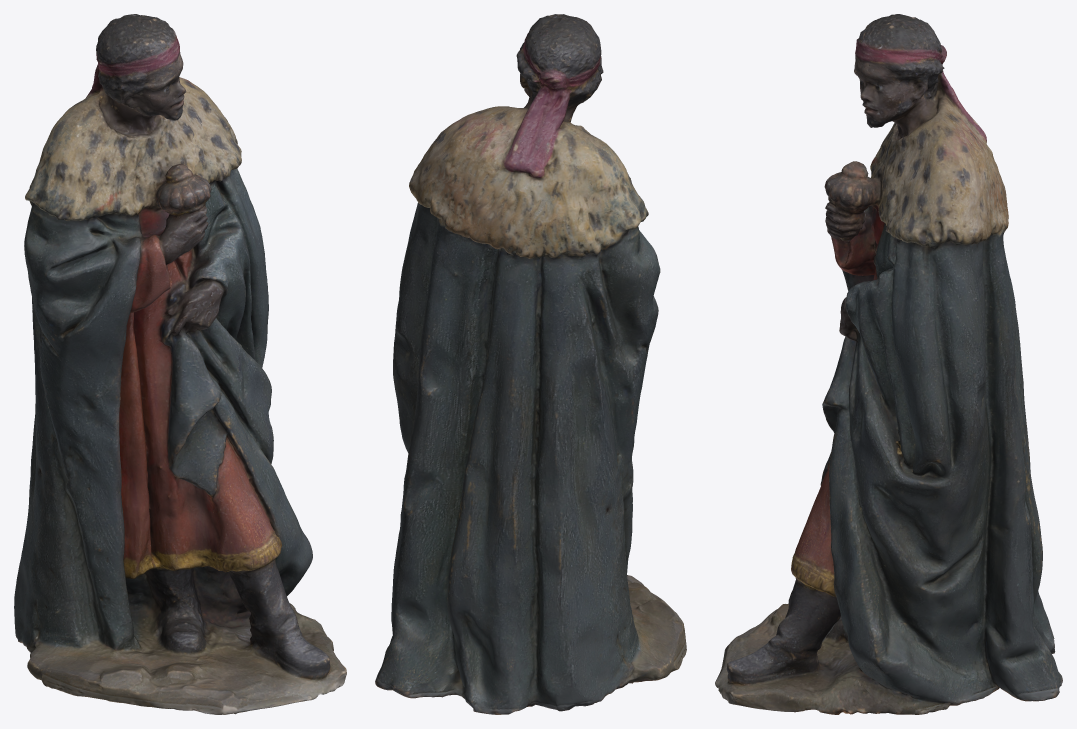
Rendered from baltasar.glb.
3 renders of one model, left to right at view 1: azimuth 30°, elevation 25°; view 2: azimuth 150°, elevation 25°; view 3: azimuth 270°, elevation 25°, orthographic.
Visible parts, largest first — view 1: Object_2; view 2: Object_2; view 3: Object_2.
Boxes of the visible parts, x1,y1,x2,y2 form: Object_2: (14,14,346,714); Object_2: (375,14,686,714); Object_2: (715,14,1062,714).
Size of the model in its own units: 0.0919 by 0.2073 by 0.1037.
1 material, 1 textured.
